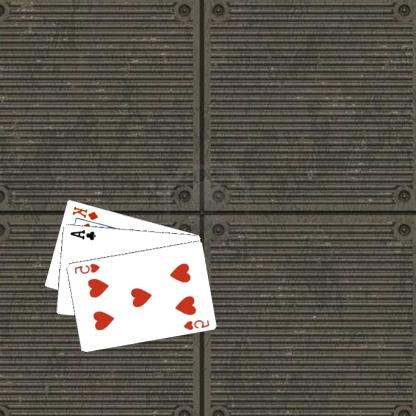5H: (73, 261, 103, 275), (182, 317, 212, 331)
AC: (70, 227, 98, 241)
KD: (72, 203, 102, 222)
